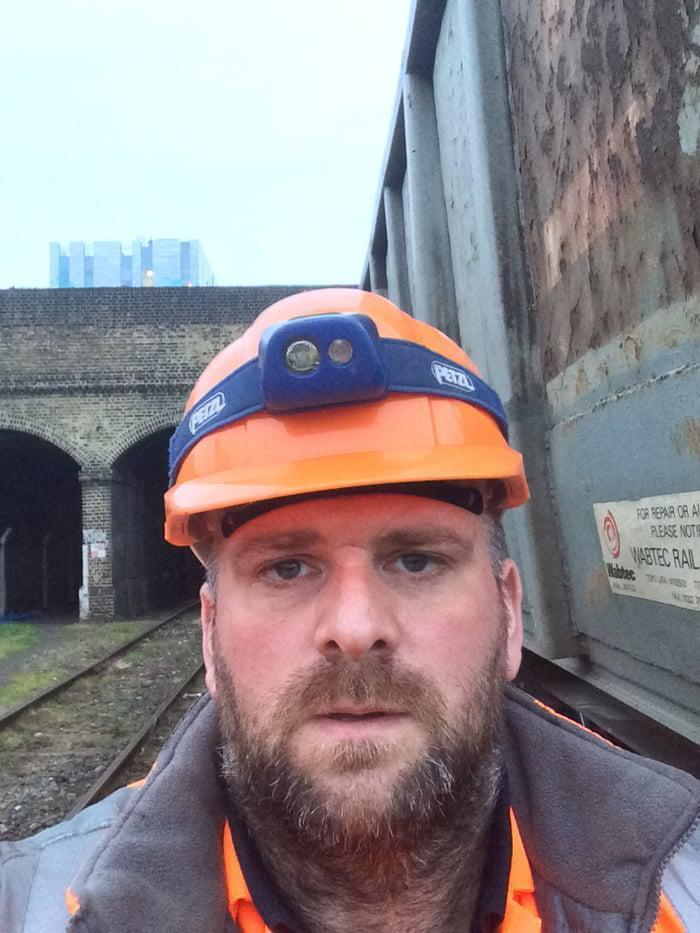helmet: (163, 289, 532, 543)
